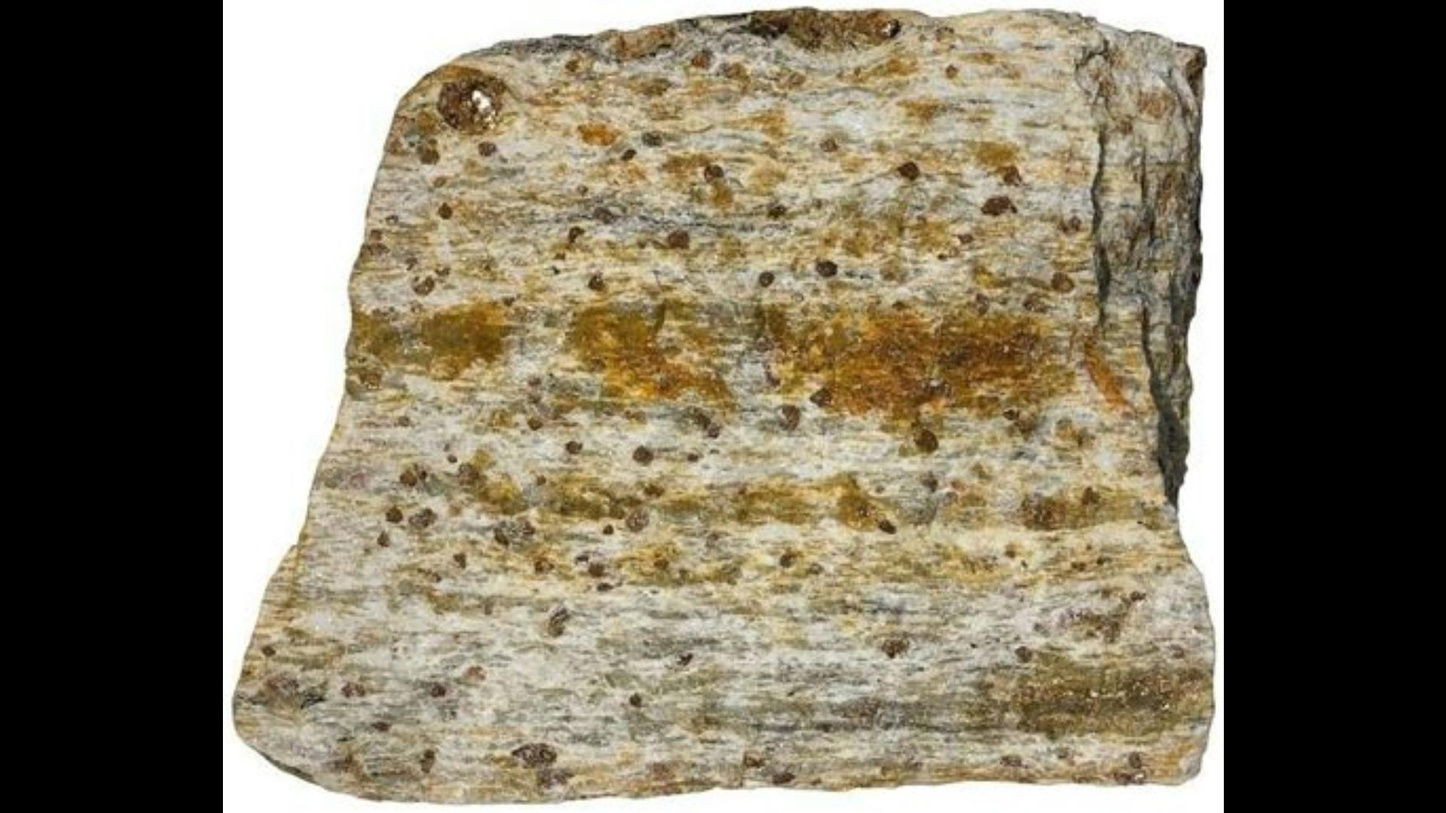rock: (241, 13, 1205, 794)
